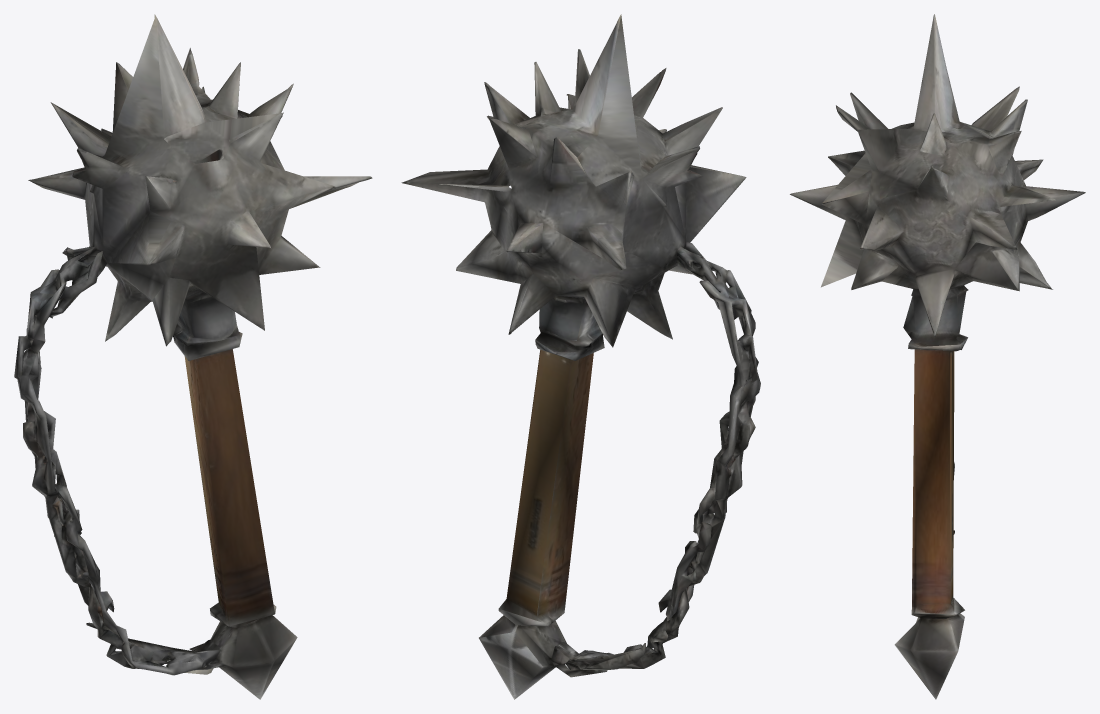
The model's file is 1565_flail.glb.
The picture shows the model from 3 angles, left to right: view 1: azimuth 30°, elevation 25°; view 2: azimuth 150°, elevation 25°; view 3: azimuth 270°, elevation 25°; orthographic projection. The views are drawn at different scales.
Visible parts, largest first — view 1: Model; view 2: Model; view 3: Model.
Boxes of the visible parts, bbox=[...] form: Model: bbox=[14, 14, 372, 699]; Model: bbox=[401, 14, 760, 699]; Model: bbox=[790, 14, 1085, 699].
Bounding box in the file's own units: 0.4628 × 1 × 0.4198.
Materials: 1 (1 with a texture image).
